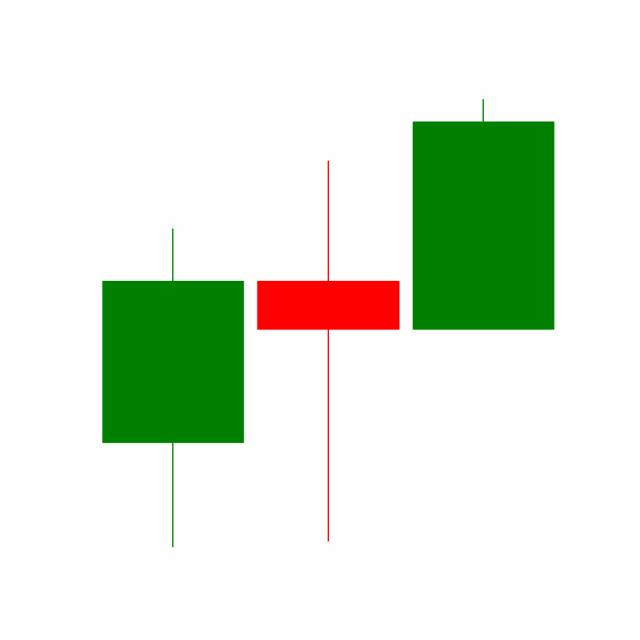Marubozu: (405, 96, 561, 332)
